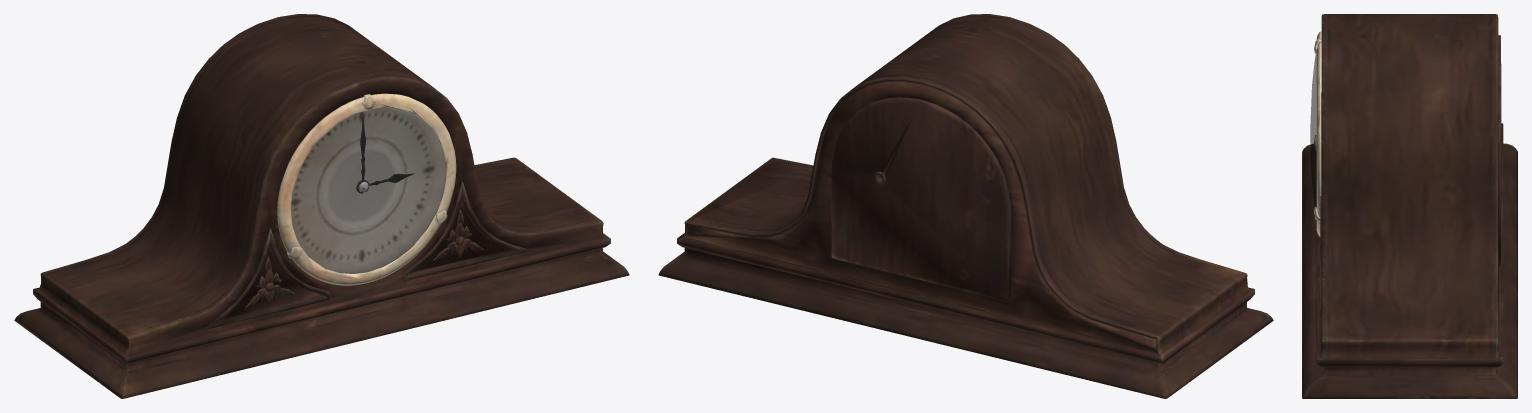
The model's file is mantel_clock.glb.
3 views of the same model, side by side, from view 1: azimuth 30°, elevation 25°; view 2: azimuth 150°, elevation 25°; view 3: azimuth 270°, elevation 25° (orthographic).
Visible parts, largest first — view 1: mantel_clock_01, mantel_clock_01_glass; view 2: mantel_clock_01; view 3: mantel_clock_01, mantel_clock_01_glass.
Part boxes in pixels (x1,y1,x2,y2): mantel_clock_01: (14,14,629,398); mantel_clock_01_glass: (291,108,445,273); mantel_clock_01: (658,14,1273,398); mantel_clock_01: (1302,14,1517,398); mantel_clock_01_glass: (1310,53,1316,207).
Size of the model in its own units: 0.3423 by 0.1605 by 0.126.
2 materials, 2 textured.
